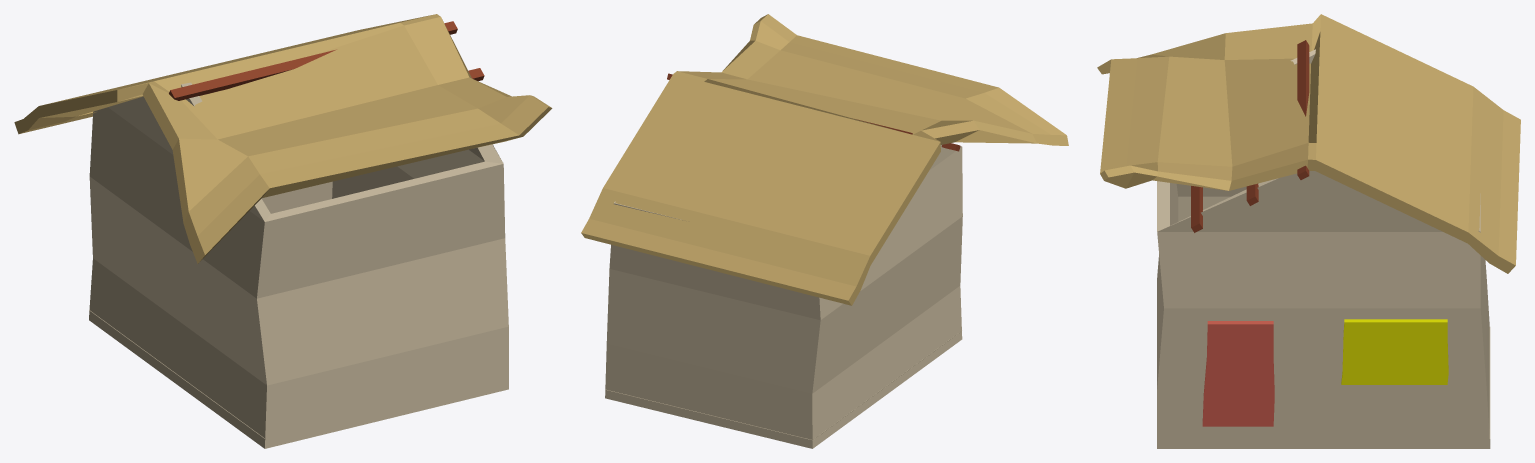
File: house_d1.fbx
3 renders of one model, left to right at view 1: azimuth 30°, elevation 25°; view 2: azimuth 150°, elevation 25°; view 3: azimuth 270°, elevation 25°, orthographic. The views are drawn at different scales.
Visible parts, largest first — view 1: 1_House _1_50; view 2: 1_House _1_50; view 3: 1_House _1_50.
Boxes of the visible parts, box(x1,y1,x2,y2) form: 1_House _1_50: box(14, 14, 552, 448); 1_House _1_50: box(581, 14, 1068, 448); 1_House _1_50: box(1097, 14, 1520, 448).
Size of the model in its own units: 5 by 4.14 by 5.34.
